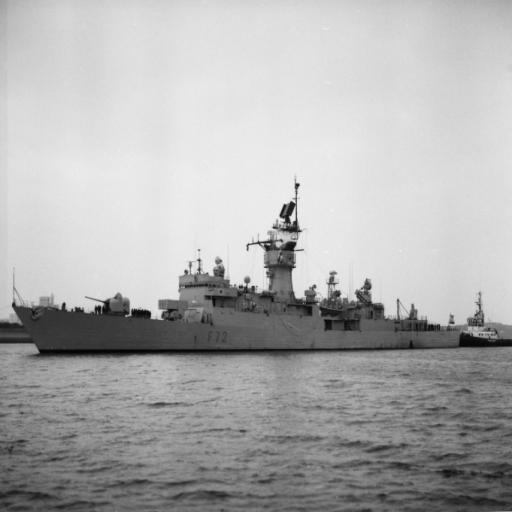Fragata: (12, 174, 466, 362)
